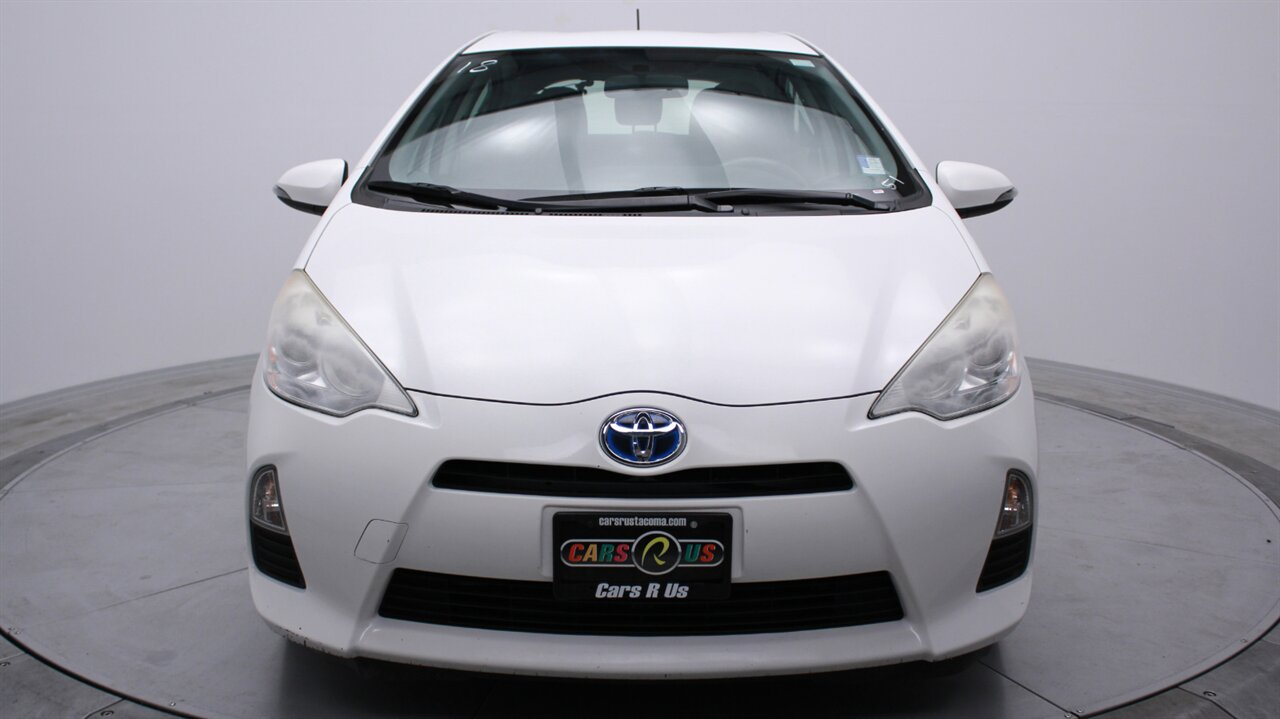Toyota Prius: (238, 22, 1047, 691)
